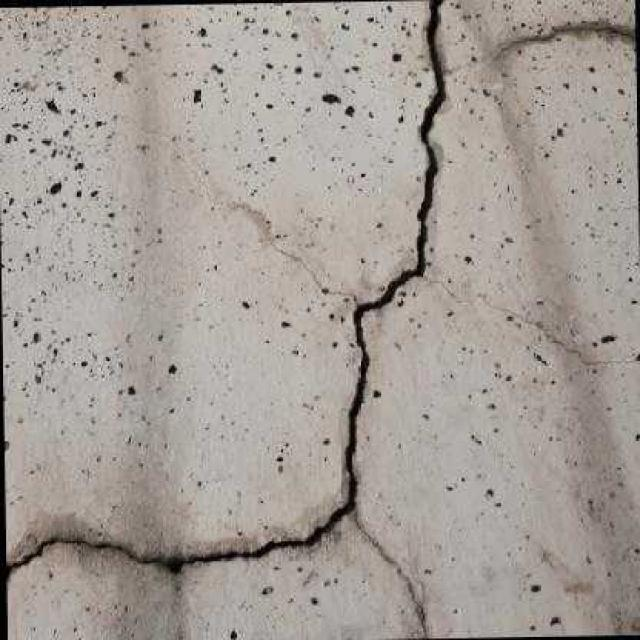D00: (4, 0, 446, 585)
